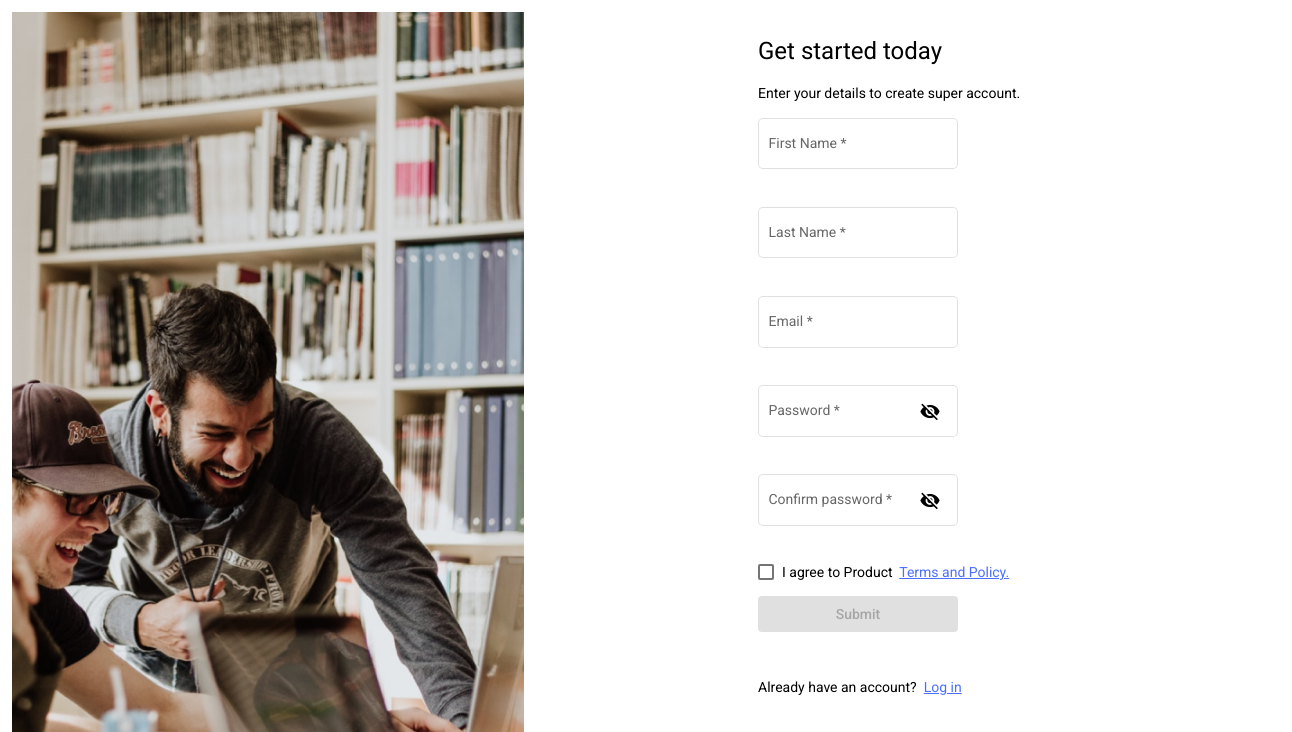
Test: Registration › Email error should appear
Type "mail" into the field named "email" at (859, 326), box [769, 318, 948, 334]
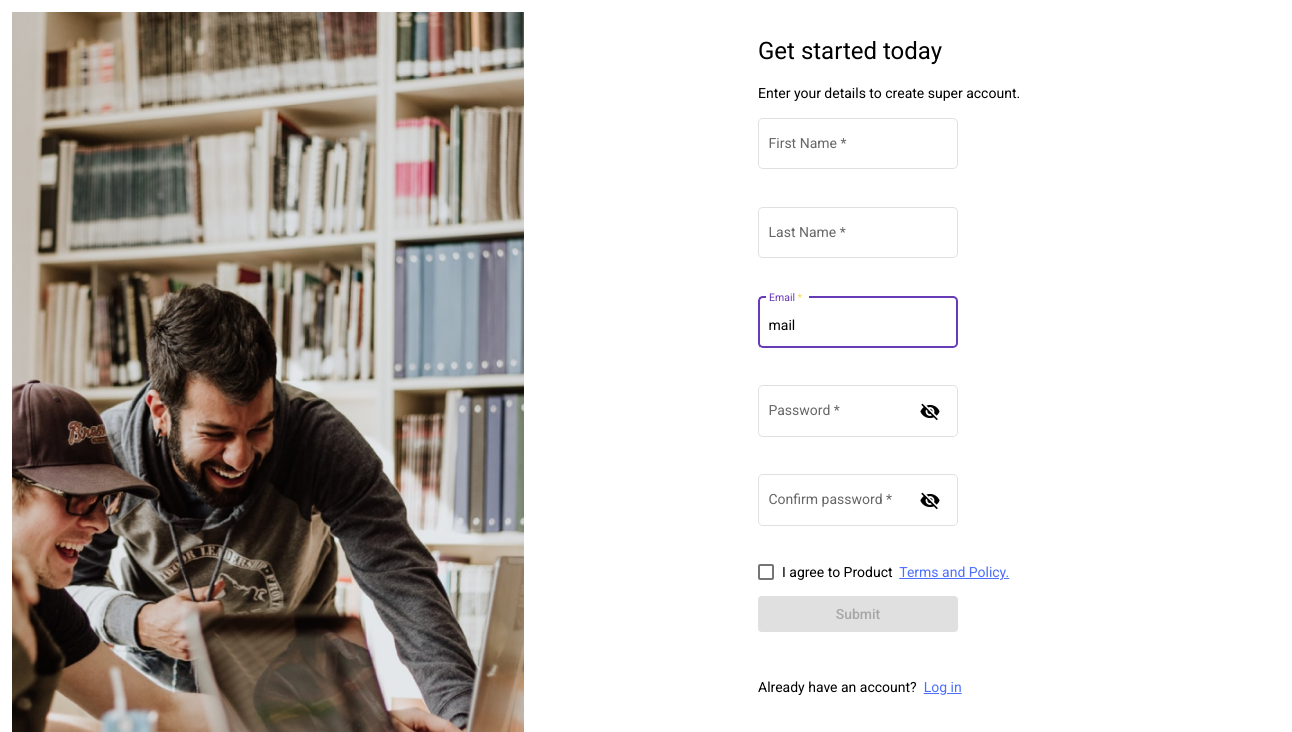
Leave the field named "email", box [769, 318, 948, 334]
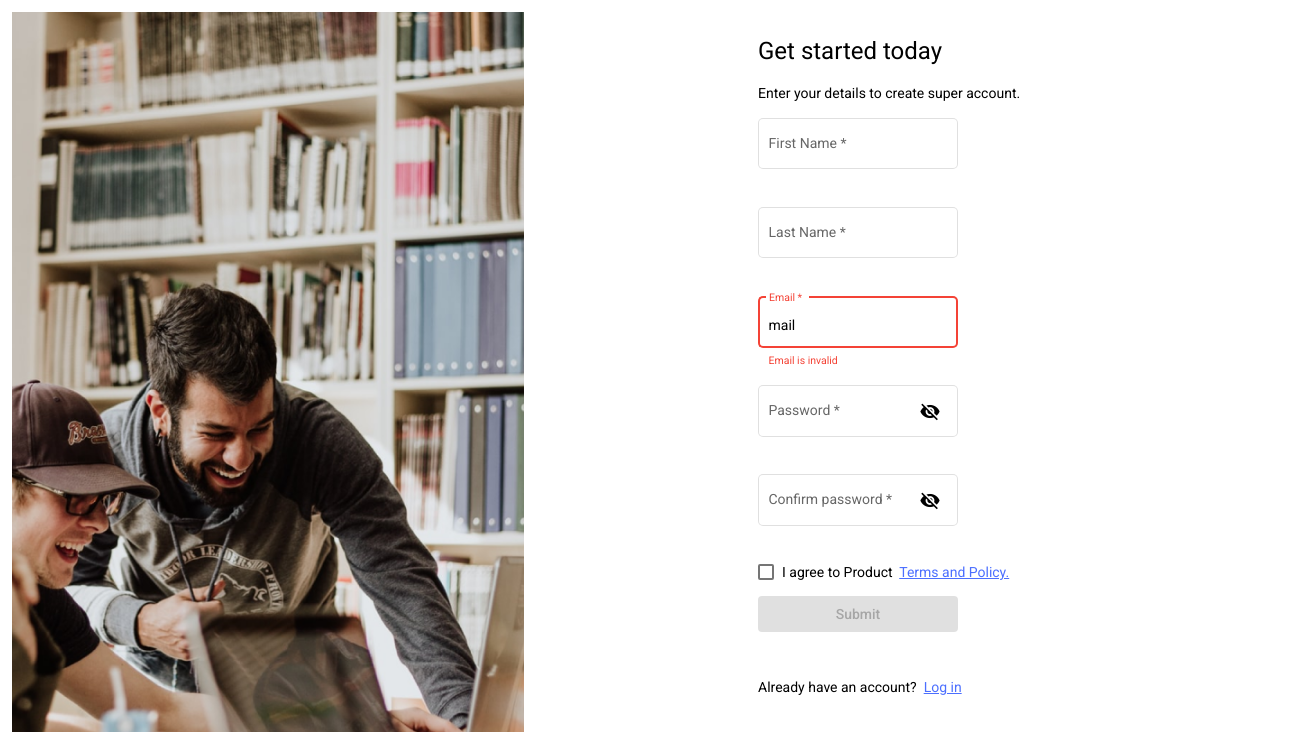
Check: the text "Email is invalid" is shown, box [768, 354, 838, 366]
